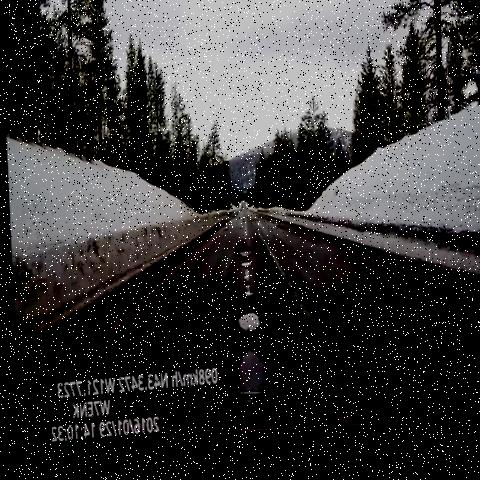pothole: (230, 340, 270, 412), (233, 305, 260, 346), (234, 263, 254, 305), (235, 244, 252, 269)
